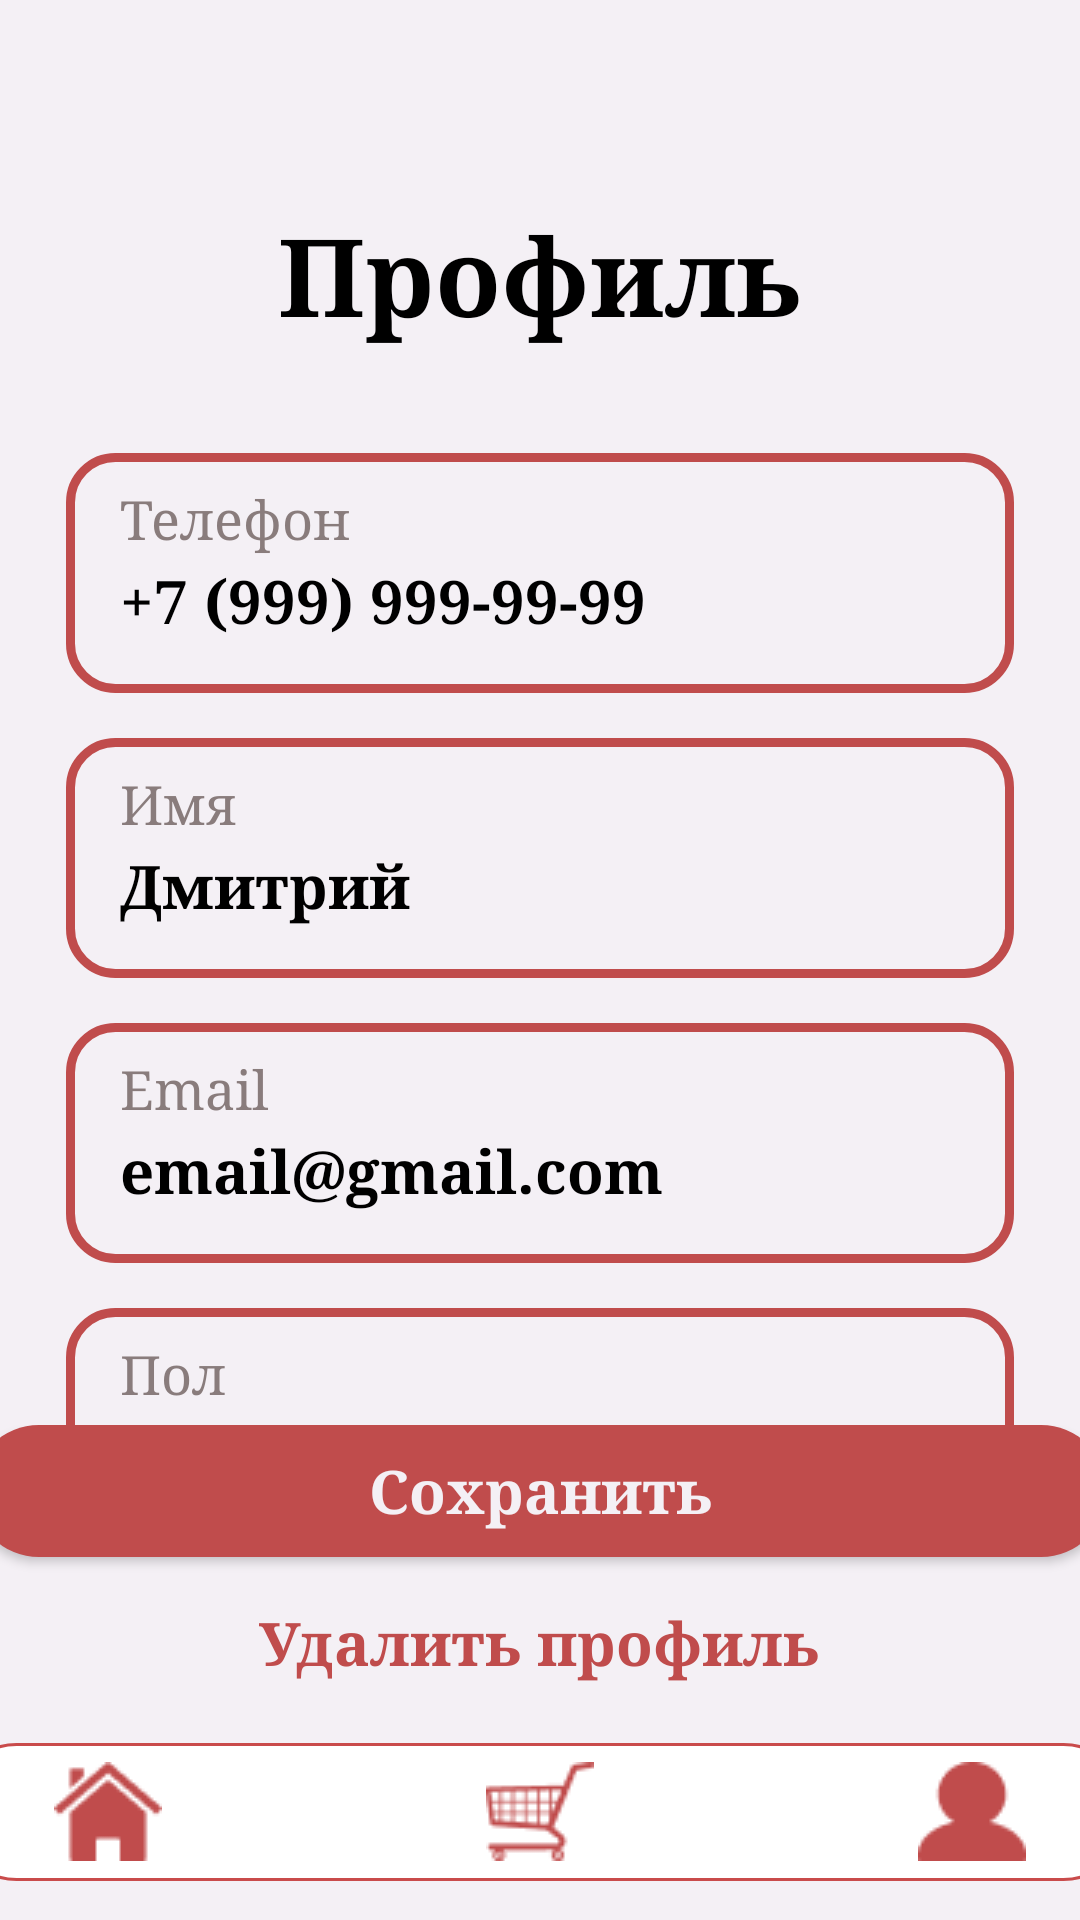

Icons on this 1080×1920 Android screen, each with its box as region(x1, y1, x2, y2):
cart: region(486, 1762, 594, 1861)
home: region(54, 1762, 162, 1861)
profile: region(918, 1762, 1026, 1861)
